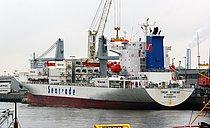Ship: (10, 36, 199, 111)
